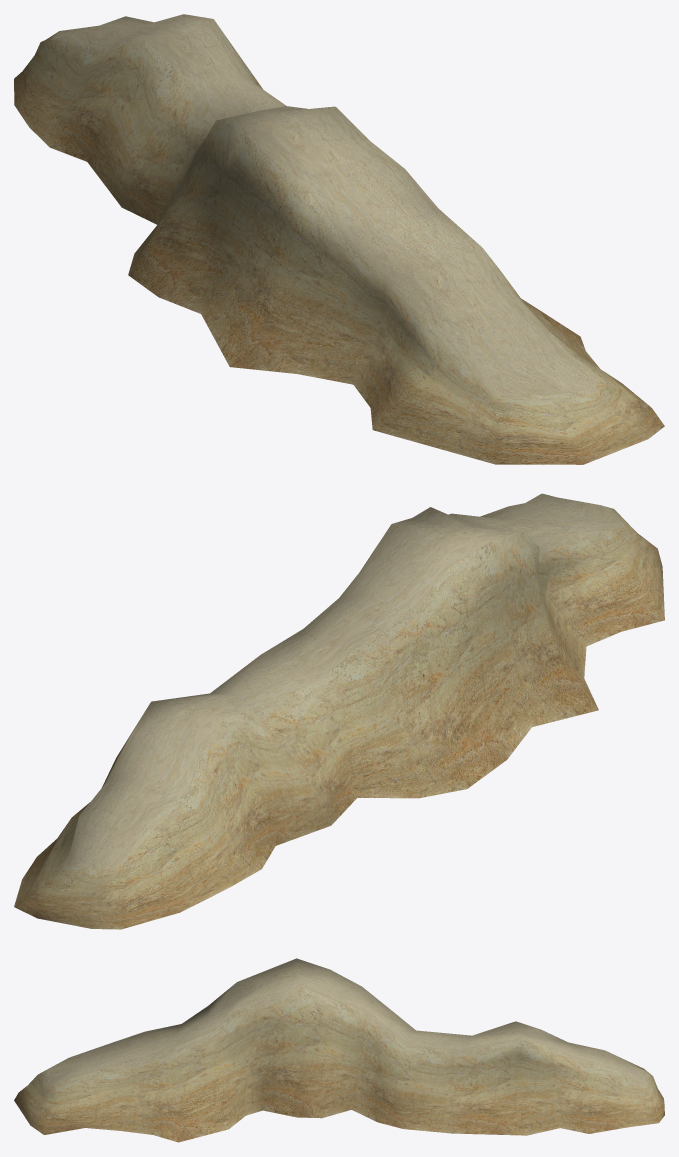
File: rock_beach_spine_a2_l1.fbx
3 renders of one model, top to bottom at view 1: azimuth 30°, elevation 25°; view 2: azimuth 150°, elevation 25°; view 3: azimuth 270°, elevation 25°, orthographic. The views are drawn at different scales.
Parts seen in each view (by area): view 1: mesh_node; view 2: mesh_node; view 3: mesh_node.
Part boxes in pixels (bbox=[...]): mesh_node: bbox=[14, 14, 664, 464]; mesh_node: bbox=[14, 493, 664, 929]; mesh_node: bbox=[14, 958, 664, 1142].
Size of the model in its own units: 5.49 by 3.38 by 17.27.
